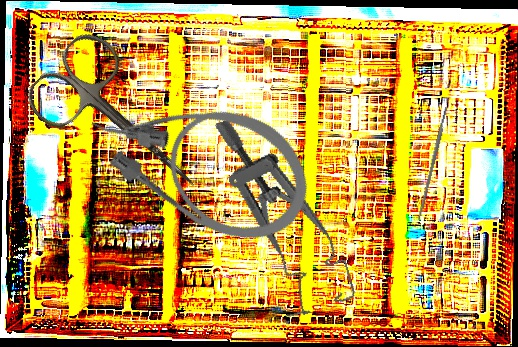Cannula: (72, 52, 329, 264)
Iris Scissors: (19, 24, 227, 225)
Scalpel Handle: (416, 106, 450, 221)
Speculum: (213, 99, 357, 325)
